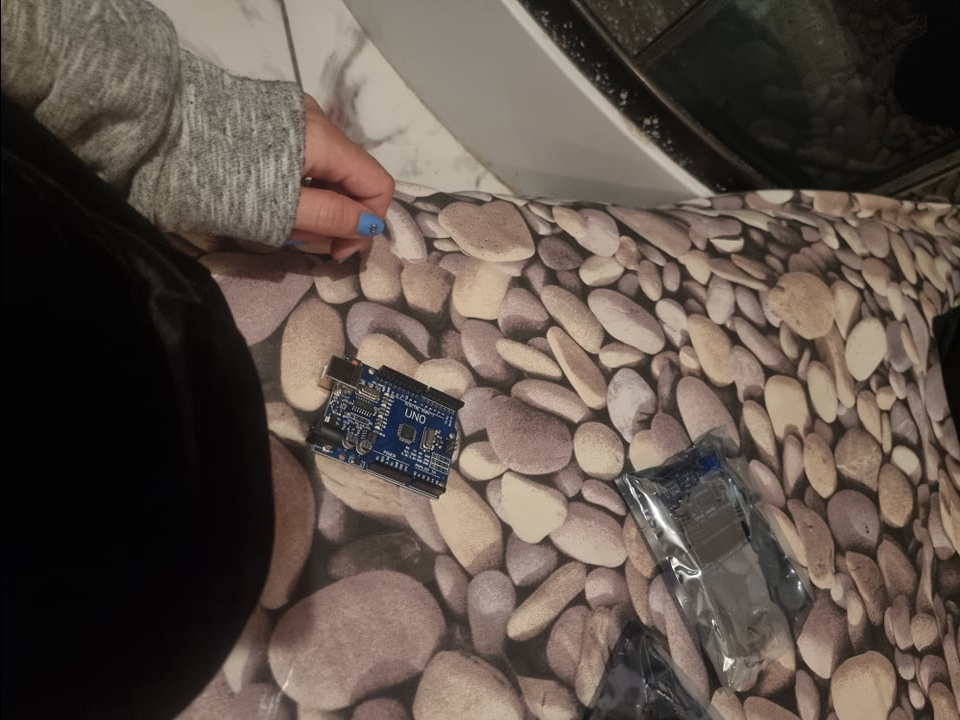UNO R3: (302, 354, 464, 499)
